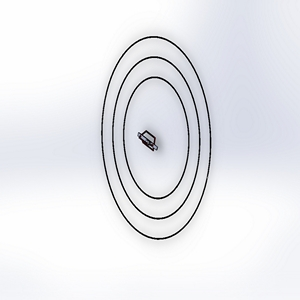circle: (92, 31, 216, 245)
submarine: (132, 125, 165, 160)
